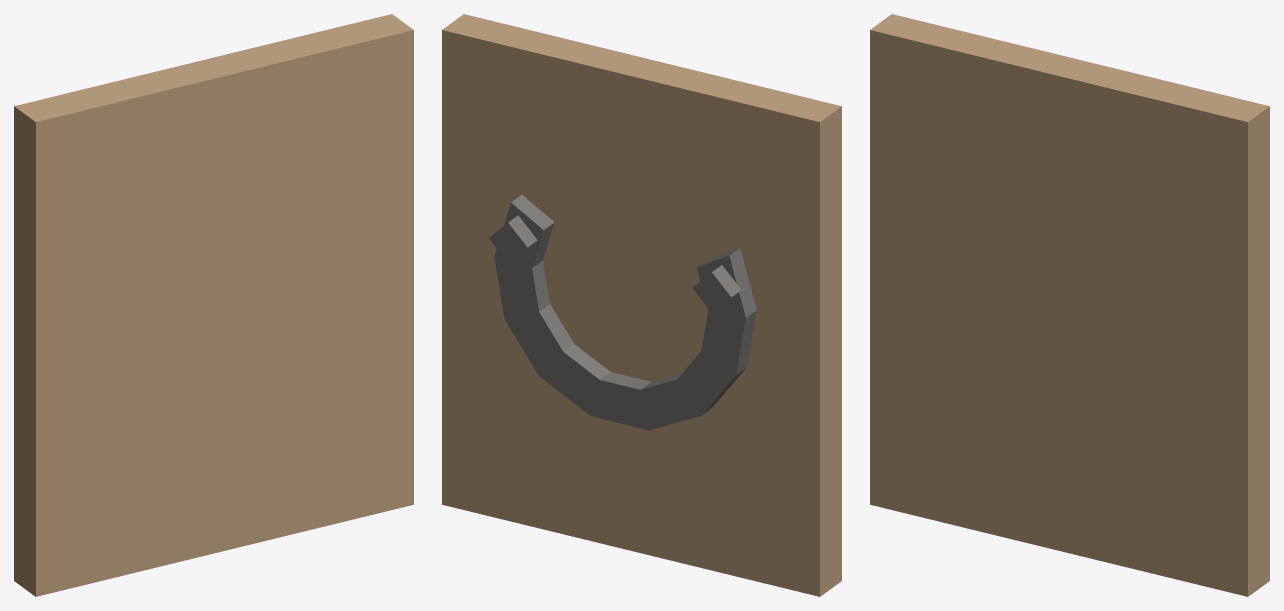
File: prop-horseshoe-wall.fbx
The picture shows the model from 3 angles, left to right: view 1: azimuth 30°, elevation 25°; view 2: azimuth 150°, elevation 25°; view 3: azimuth 330°, elevation 25°; orthographic projection.
Visible parts, largest first — view 1: prop-horseshoe-wall; view 2: prop-horseshoe-wall; view 3: prop-horseshoe-wall.
Boxes of the visible parts, left/top/right/bottom form: prop-horseshoe-wall: left=14, top=14, right=413, bottom=596; prop-horseshoe-wall: left=442, top=14, right=841, bottom=596; prop-horseshoe-wall: left=870, top=14, right=1269, bottom=596.
Bounding box in the file's own units: 0.3 × 0.36 × 0.059.
